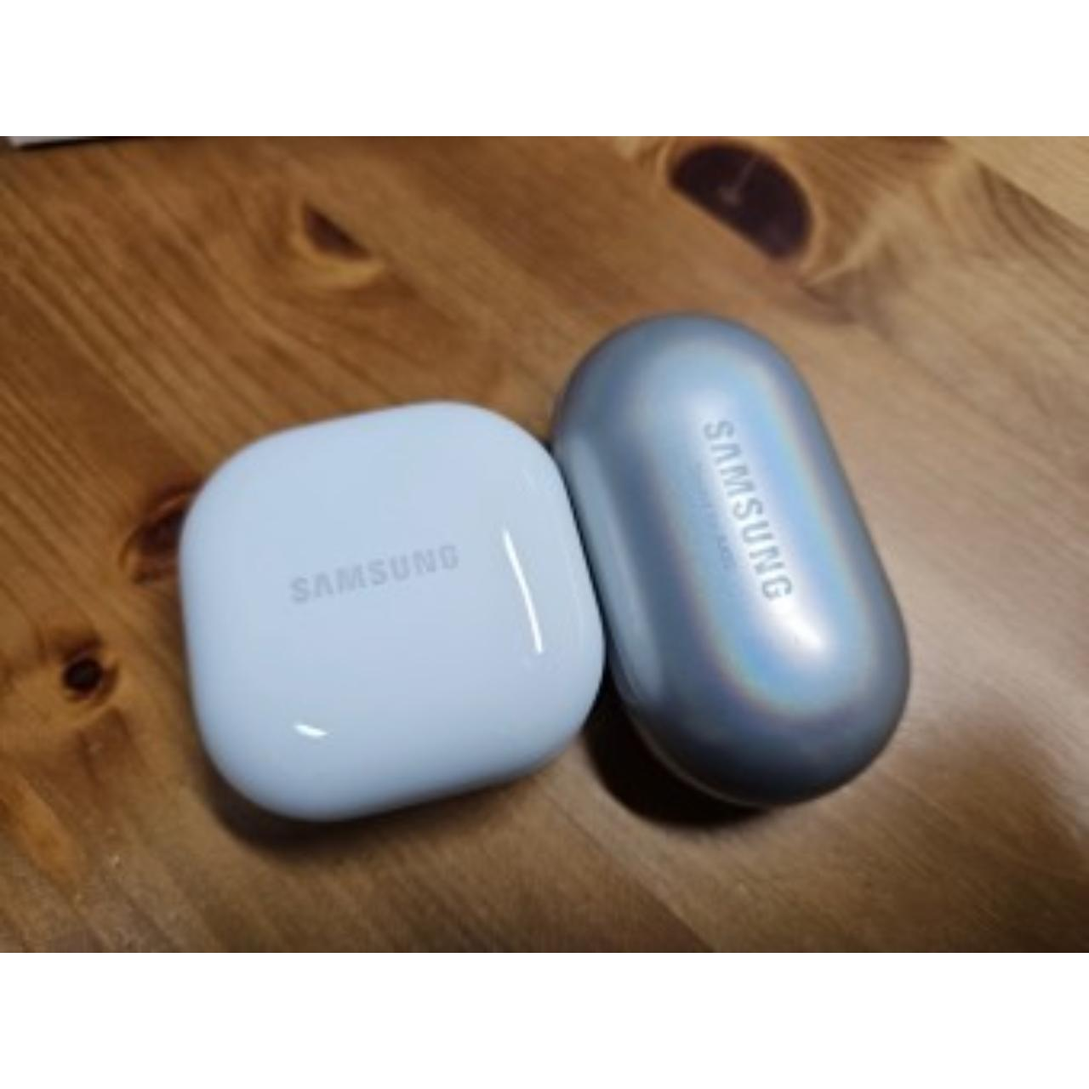Buds: (172, 397, 605, 833), (552, 311, 915, 824)
